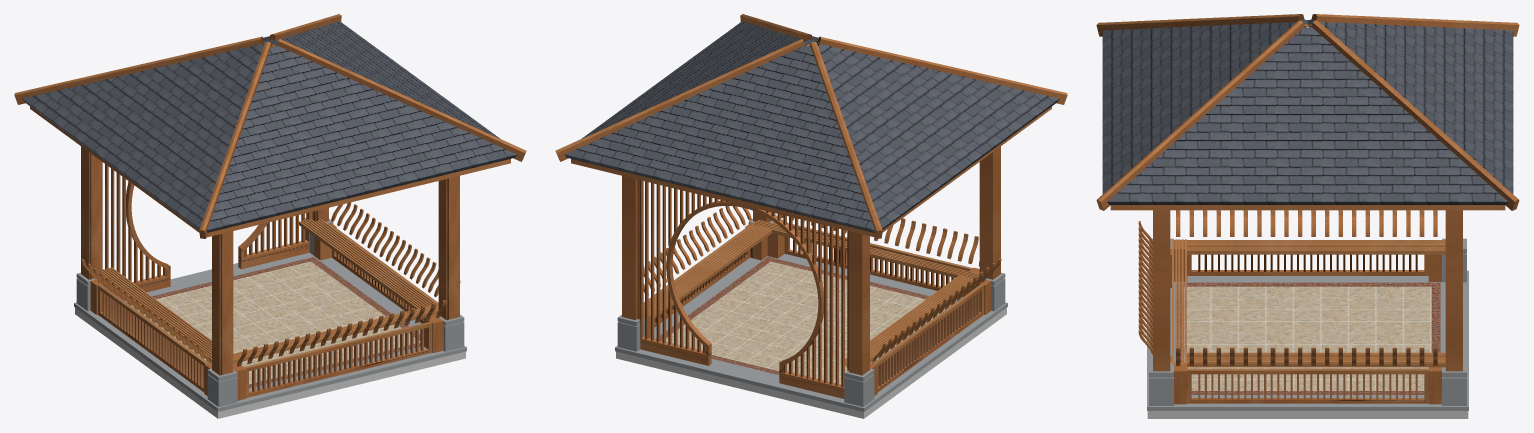
File: Pavilion.glb
The picture shows the model from 3 angles, left to right: view 1: azimuth 30°, elevation 25°; view 2: azimuth 150°, elevation 25°; view 3: azimuth 270°, elevation 25°; orthographic projection. The views are drawn at different scales.
Visible parts, largest first — view 1: Obj3d66-7682711-401-961, Obj3d66-7682711-4-987, Obj3d66-7682711-482-410, Obj3d66-7682711-29-497, Obj3d66-7682711-2-885, Obj3d66-7682711-483-135; view 2: Obj3d66-7682711-401-961, Obj3d66-7682711-4-987, Obj3d66-7682711-482-410, Obj3d66-7682711-29-497, Obj3d66-7682711-2-885, Obj3d66-7682711-483-135; view 3: Obj3d66-7682711-401-961, Obj3d66-7682711-4-987, Obj3d66-7682711-482-410, Obj3d66-7682711-29-497, Obj3d66-7682711-483-135, Obj3d66-7682711-2-885.
Boxes of the visible parts, box(x1,y1,x2,y2) form: Obj3d66-7682711-401-961: box(22, 21, 517, 232); Obj3d66-7682711-4-987: box(14, 14, 526, 400); Obj3d66-7682711-482-410: box(131, 261, 420, 384); Obj3d66-7682711-29-497: box(74, 217, 466, 411); Obj3d66-7682711-2-885: box(75, 308, 465, 418); Obj3d66-7682711-483-135: box(126, 257, 420, 388); Obj3d66-7682711-401-961: box(564, 21, 1059, 232); Obj3d66-7682711-4-987: box(555, 14, 1067, 398); Obj3d66-7682711-482-410: box(666, 261, 951, 384); Obj3d66-7682711-29-497: box(615, 219, 1007, 411); Obj3d66-7682711-2-885: box(616, 308, 1006, 418); Obj3d66-7682711-483-135: box(656, 257, 955, 374); Obj3d66-7682711-401-961: box(1102, 19, 1513, 204); Obj3d66-7682711-4-987: box(1096, 14, 1519, 404); Obj3d66-7682711-482-410: box(1184, 286, 1431, 390); Obj3d66-7682711-29-497: box(1147, 238, 1468, 410); Obj3d66-7682711-483-135: box(1177, 282, 1440, 394); Obj3d66-7682711-2-885: box(1147, 411, 1468, 418).
Bounding box in the file's own units: 2.31 × 2.02 × 2.31.
Materials: 7 (4 with a texture image).
